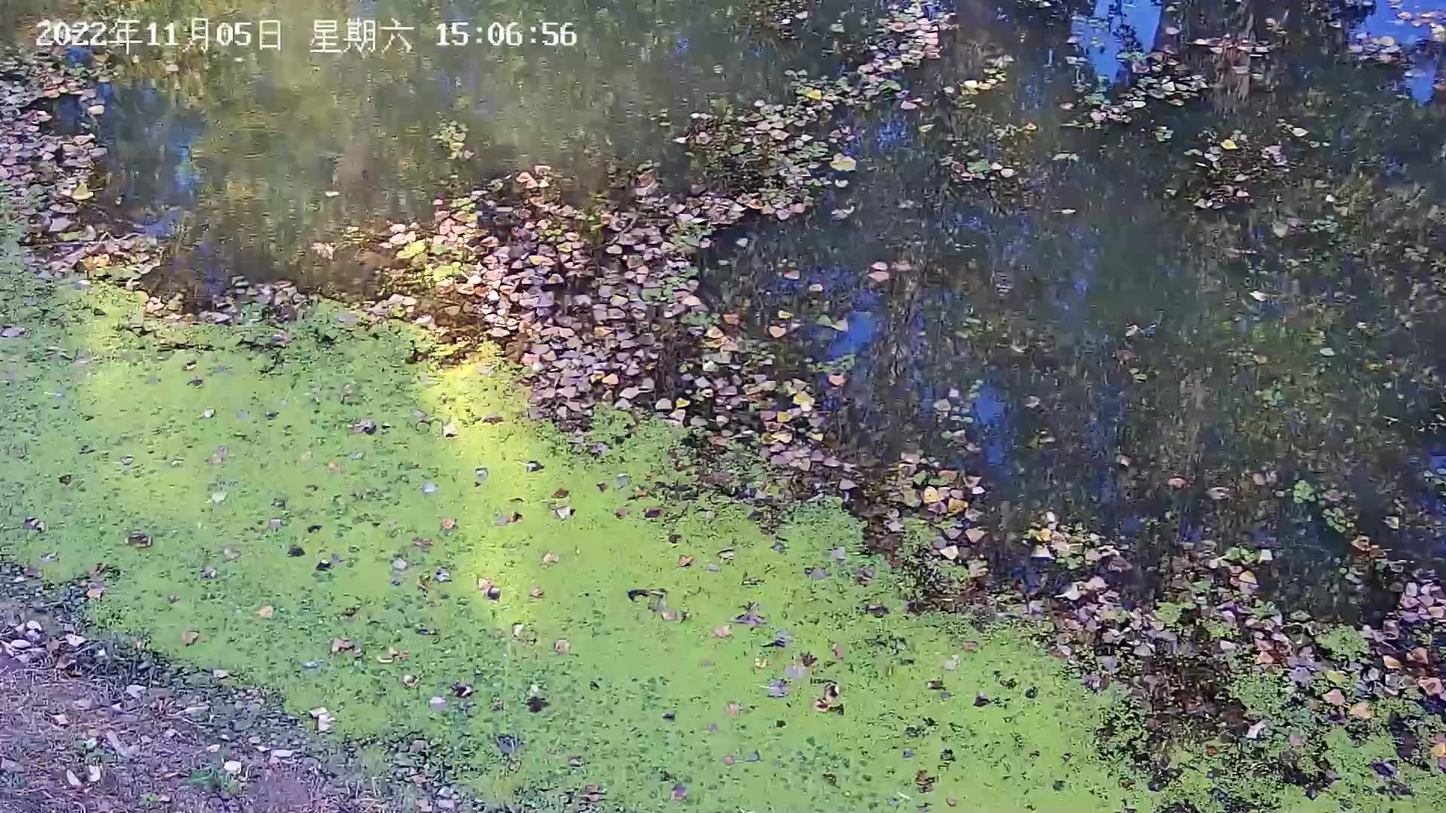floater: (2, 273, 867, 803), (831, 473, 1446, 813), (389, 8, 957, 312), (1, 57, 164, 289), (1062, 26, 1281, 132), (940, 56, 1036, 202), (1191, 133, 1291, 209), (938, 381, 987, 454), (1349, 34, 1410, 66)
